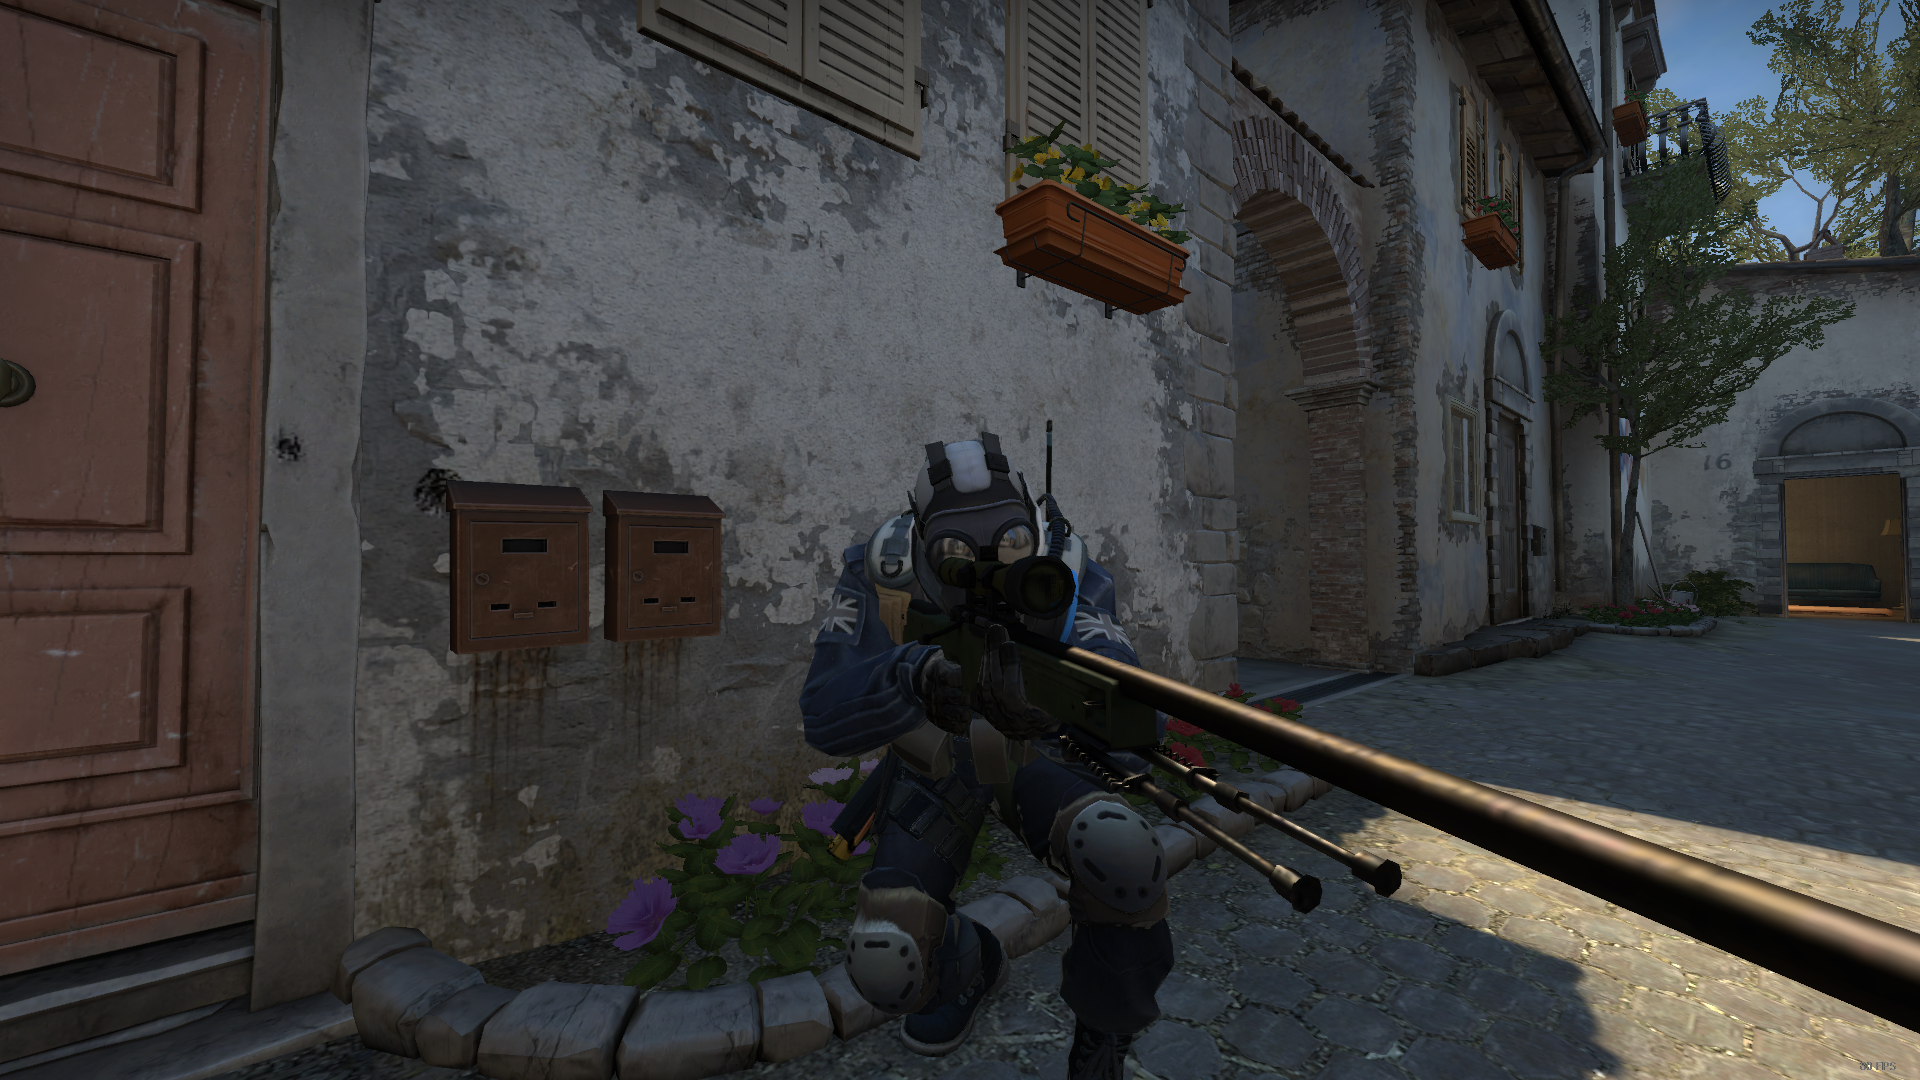ct: (800, 436, 1168, 1080)
